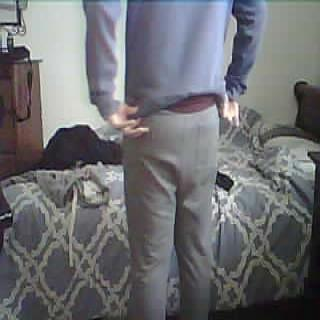Blue Hoodie: (86, 1, 258, 101)
Gray Sweatpants: (127, 116, 224, 320)
